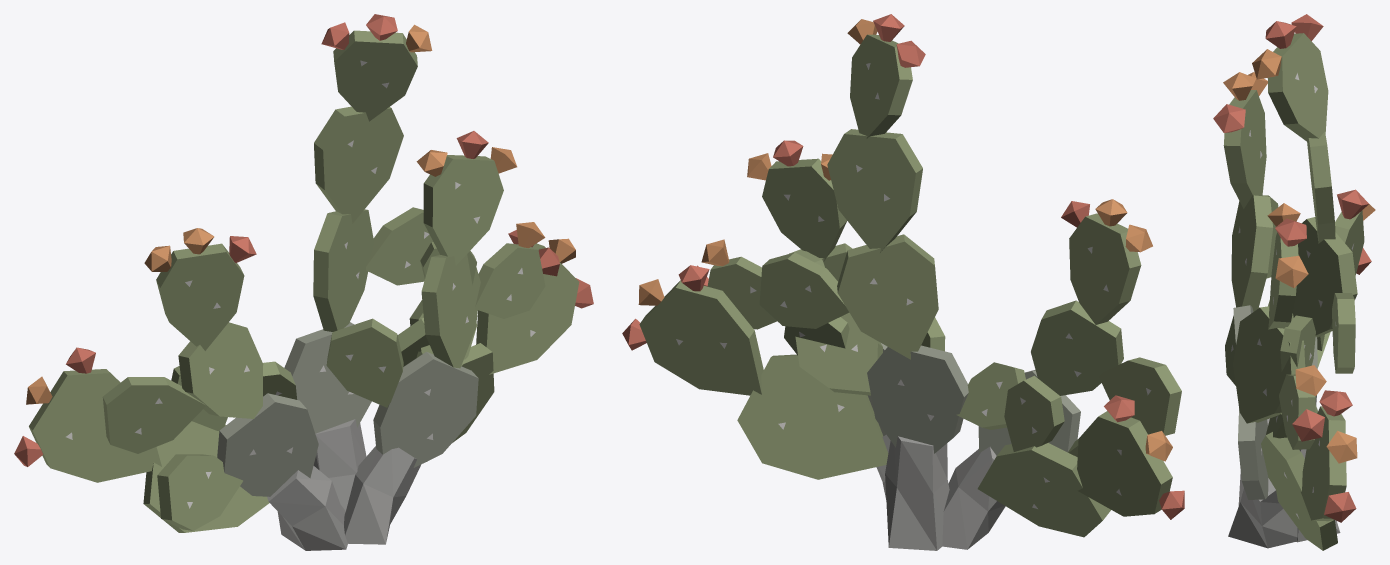
Rendered from cactus_1.glb.
3 renders of one model, left to right at view 1: azimuth 30°, elevation 25°; view 2: azimuth 150°, elevation 25°; view 3: azimuth 270°, elevation 25°, orthographic. The views are drawn at different scales.
Parts seen in each view (by area): view 1: cactus_1; view 2: cactus_1; view 3: cactus_1.
Boxes of the visible parts, x1=… form: cactus_1: x1=14, y1=14, x2=593, y2=550; cactus_1: x1=622, y1=14, x2=1184, y2=550; cactus_1: x1=1213, y1=14, x2=1375, y2=550.
Size of the model in its own units: 1.9 by 1.61 by 0.4523.
